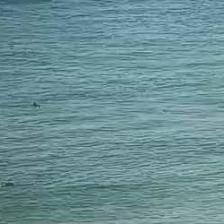surfer: (0, 181, 15, 189), (30, 100, 41, 107)
